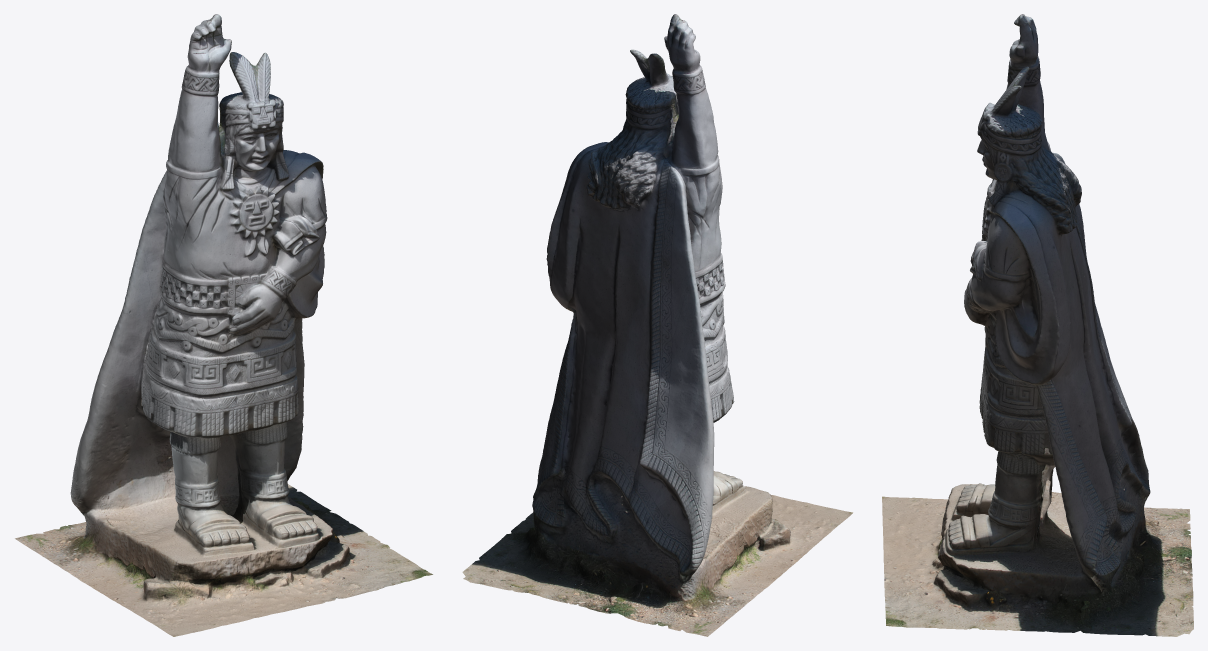
The model's file is estatua_gigante_de_inca.glb.
3 views of the same model, side by side, from view 1: azimuth 30°, elevation 25°; view 2: azimuth 150°, elevation 25°; view 3: azimuth 270°, elevation 25° (orthographic). The views are drawn at different scales.
Visible parts, largest first — view 1: Object_2, Object_3; view 2: Object_2, Object_3; view 3: Object_2, Object_3.
Boxes of the visible parts, x1=… form: Object_2: x1=15, y1=138, x2=432, y2=636; Object_3: x1=15, y1=14, x2=423, y2=627; Object_2: x1=462, y1=119, x2=852, y2=636; Object_3: x1=546, y1=14, x2=837, y2=636; Object_2: x1=882, y1=141, x2=1193, y2=636; Object_3: x1=883, y1=14, x2=1190, y2=625.
Bounding box in the file's own units: 3.2 × 6.44 × 3.29.
Materials: 1 (1 with a texture image).
